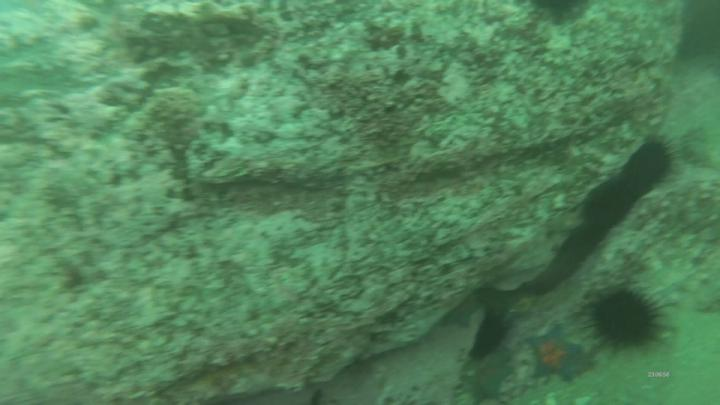echinus: (592, 279, 660, 359), (628, 132, 679, 196), (479, 307, 514, 360)
starfish: (526, 322, 590, 384), (465, 346, 514, 403)
